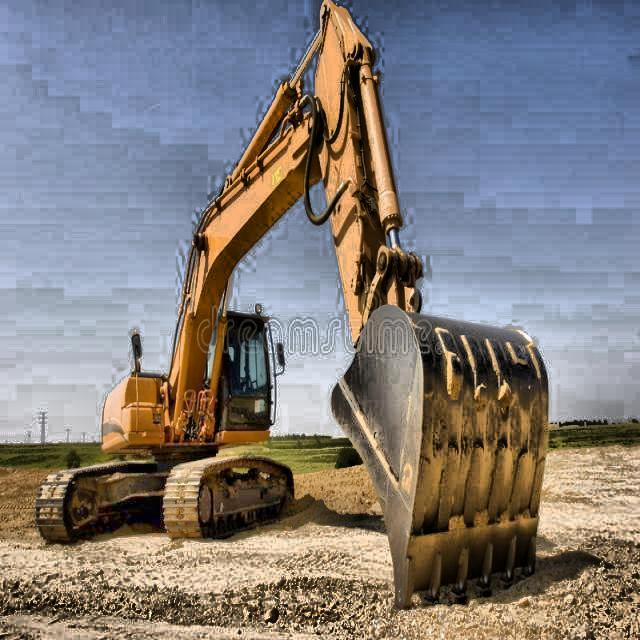excavator: (33, 0, 554, 612)
